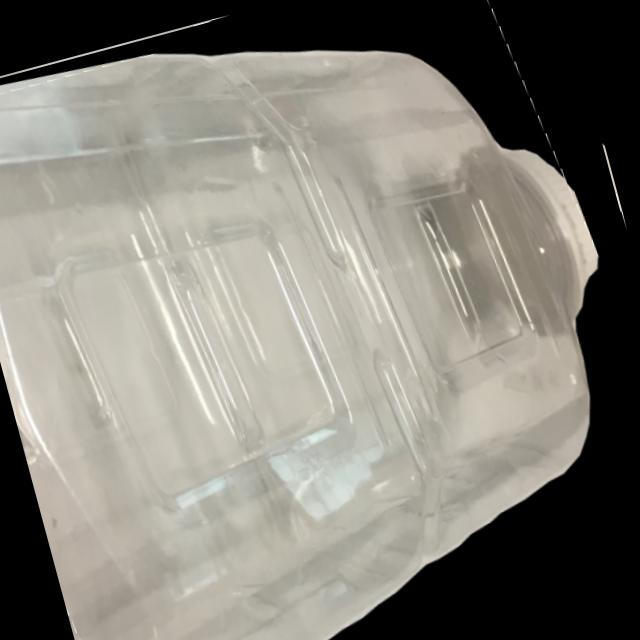plastic: (0, 40, 603, 640)
